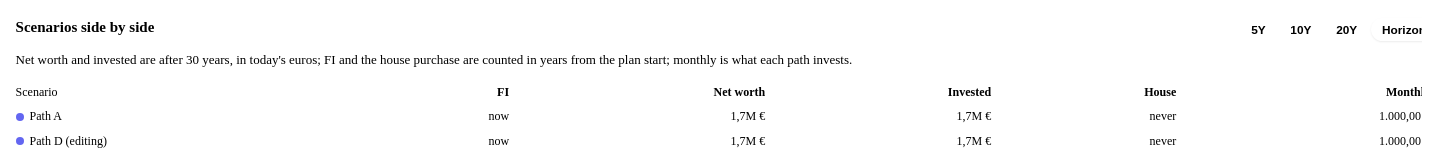
Test: ScenarioComparison › offers the hero chart's windows and reads the table at the chosen one
Expected: the element named "Comparison year" reads "5Y 10Y 20Y Horizon", [1238,16,1422,44]
Expected: the radio button labelled "Horizon" is checked, [1371,18,1422,41]
Click the radio button labelled "10Y": point(1301, 30) [1279,18,1323,41]
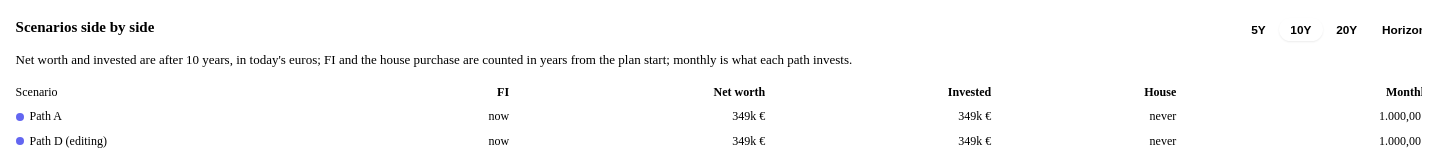
Now the text "after 10 years" is shown, box [156,52,230,67]
